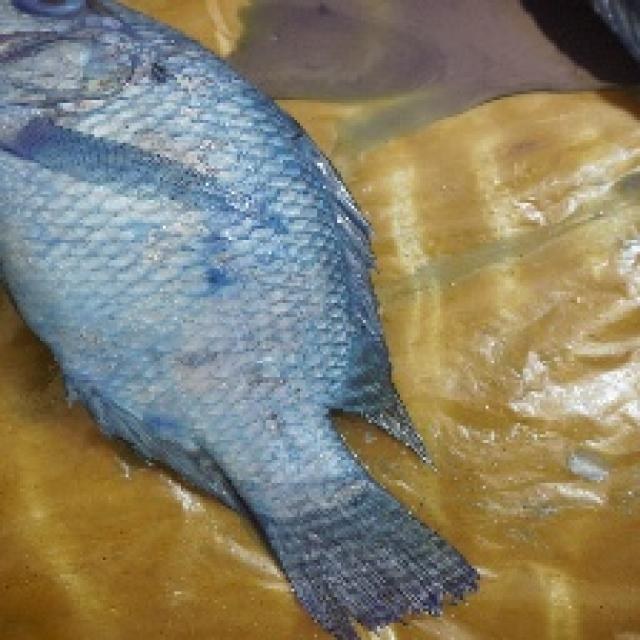Non-Fresh: (0, 0, 269, 429)
